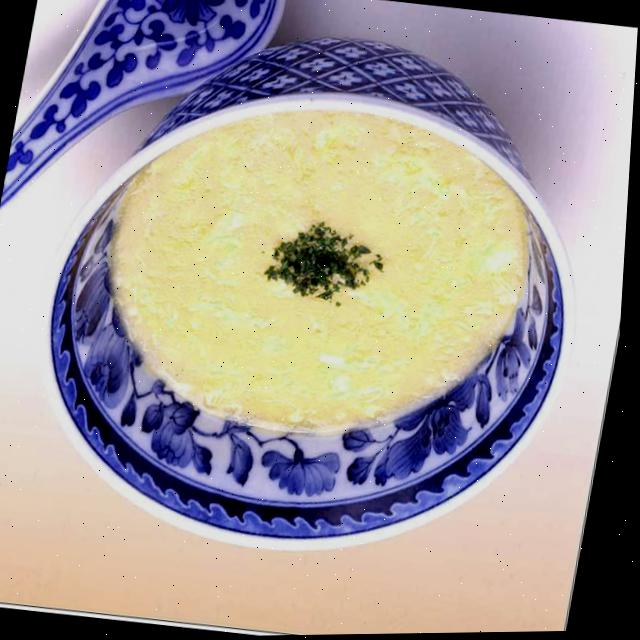汤锅炖物: (17, 18, 599, 568)
